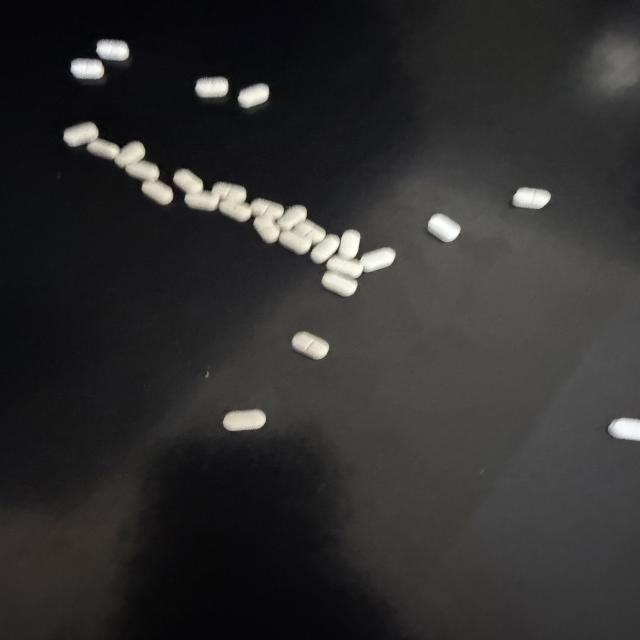pill: (292, 332, 329, 359), (223, 410, 266, 431), (428, 214, 460, 242), (322, 271, 357, 296), (63, 122, 98, 146), (360, 248, 395, 272), (293, 220, 326, 245), (311, 235, 340, 263), (115, 141, 145, 168), (327, 255, 362, 278), (513, 188, 550, 209), (238, 84, 269, 108), (279, 231, 311, 254), (278, 205, 306, 231), (218, 200, 251, 222), (173, 169, 203, 193), (195, 77, 229, 98), (142, 181, 173, 204), (251, 198, 284, 219), (126, 160, 159, 181), (608, 418, 639, 440), (185, 191, 219, 211), (212, 182, 246, 202), (254, 217, 280, 243), (97, 40, 129, 61), (87, 138, 119, 159), (338, 230, 360, 260), (71, 59, 104, 79)
